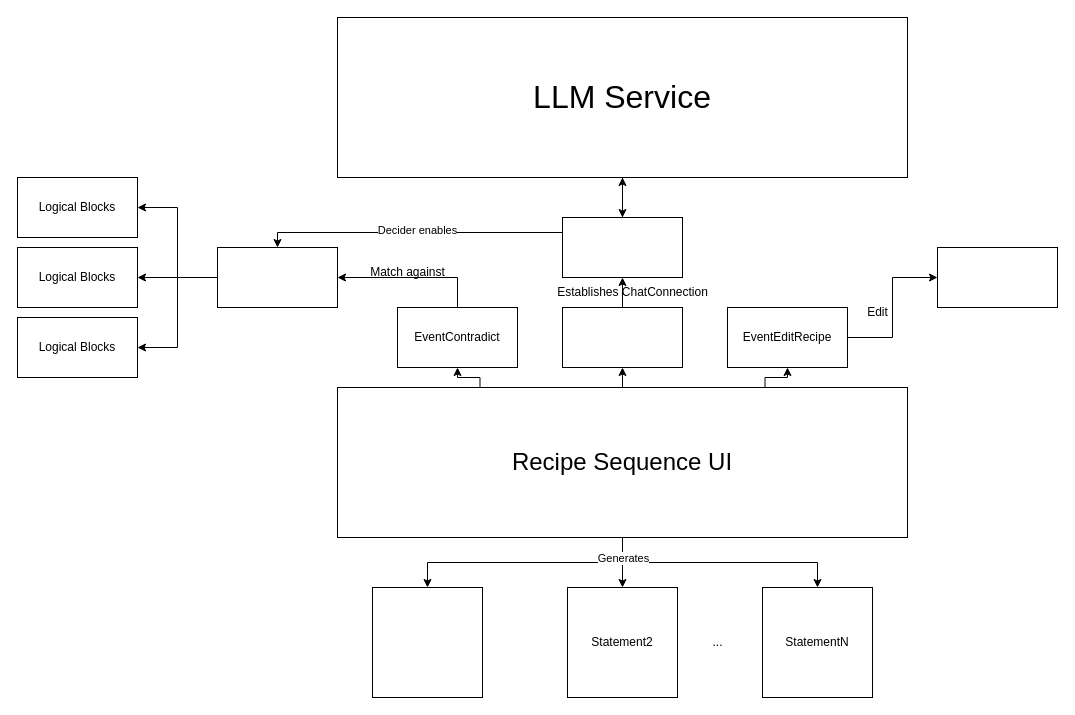
Image size: 1075x715. Some labels were removed from this diagram. Here are the shapes that lost their labels. From the top down, the centre of each, then its label:
At point 622,247: "ChatConnection".
At point 277,277: "RecipeContext".
At point 997,277: "PlayerRecipeData".
At point 622,337: "EventPress".
At point 427,642: "Statement1".
